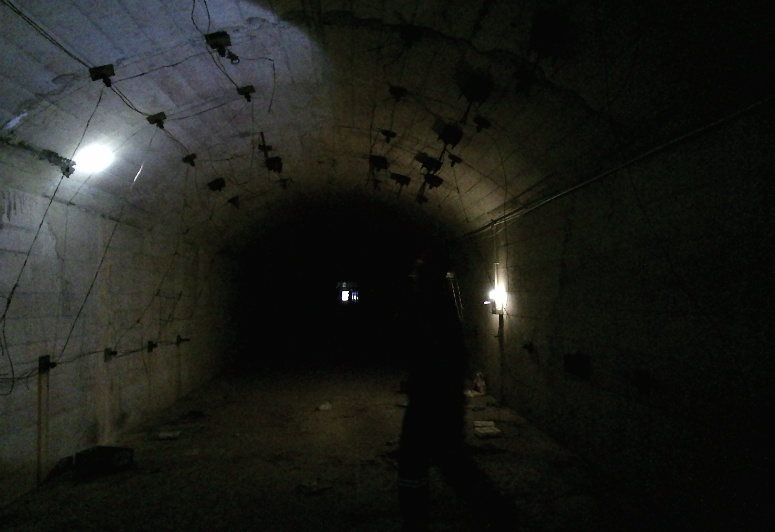person: (354, 249, 459, 532)
